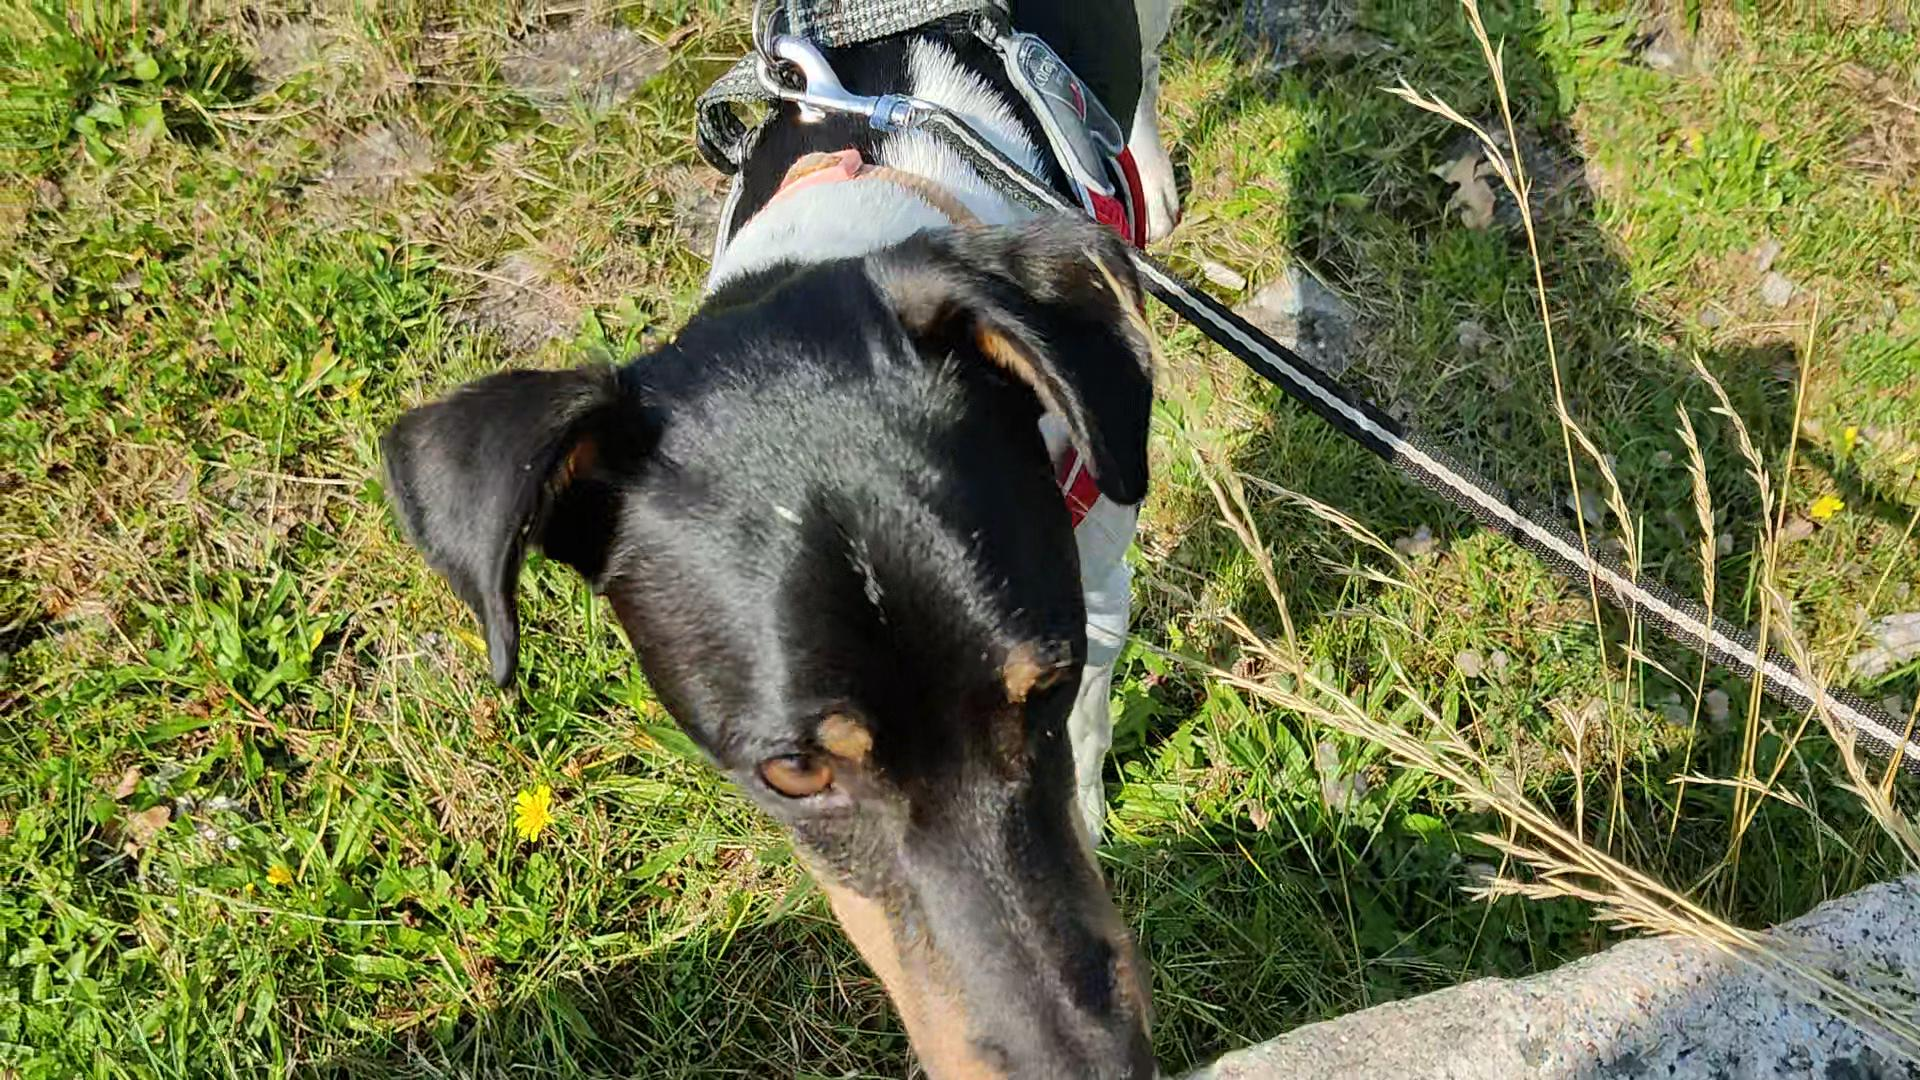Dog: (371, 0, 1184, 1079)
